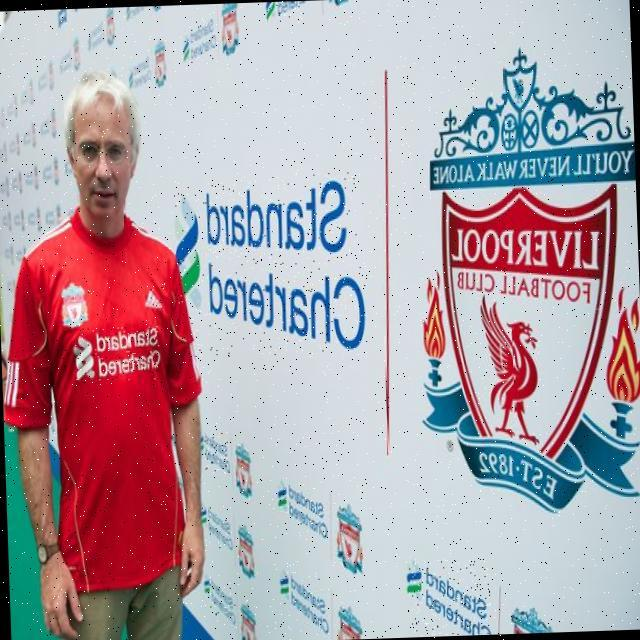Adidas: (144, 287, 161, 308)
Standard Chartered: (169, 172, 368, 359), (405, 554, 493, 637), (72, 326, 161, 382), (279, 567, 330, 635), (277, 477, 328, 540), (181, 16, 217, 63), (203, 574, 235, 624), (200, 504, 232, 551), (204, 431, 230, 473), (265, 1, 305, 22)
